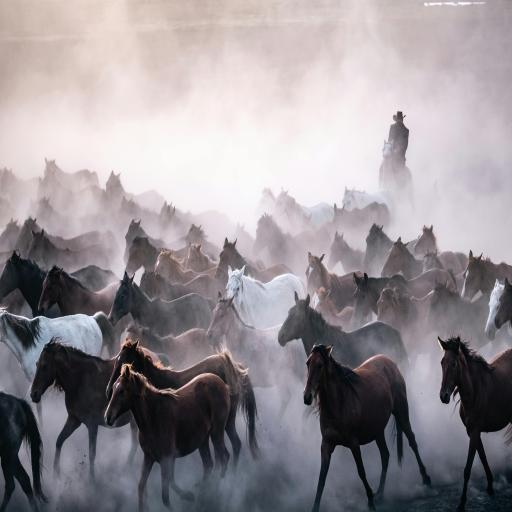horse: (106, 334, 259, 491), (299, 341, 436, 512), (304, 344, 430, 511), (104, 361, 244, 506), (107, 340, 258, 467), (106, 365, 230, 511), (31, 334, 134, 490), (438, 326, 512, 512), (439, 337, 511, 511), (31, 341, 114, 479), (207, 297, 292, 419), (279, 296, 408, 370), (0, 312, 114, 382), (109, 273, 211, 335), (351, 269, 456, 328), (0, 392, 46, 511), (227, 267, 303, 328), (126, 322, 214, 368), (253, 215, 321, 274), (39, 266, 118, 316), (378, 288, 428, 366), (428, 282, 490, 344), (27, 230, 112, 271), (216, 238, 291, 283), (0, 252, 47, 316), (306, 253, 356, 311), (272, 188, 333, 233), (379, 140, 414, 212), (140, 271, 222, 301), (462, 251, 511, 300), (155, 250, 216, 283), (46, 231, 119, 257), (124, 219, 165, 263), (44, 159, 99, 191), (381, 238, 423, 279), (313, 287, 353, 330), (333, 202, 390, 232), (330, 198, 369, 240), (343, 187, 393, 219), (363, 224, 393, 275), (328, 232, 364, 273), (125, 237, 160, 274), (185, 224, 220, 260), (485, 279, 504, 340), (185, 243, 217, 272), (159, 202, 186, 236), (494, 278, 511, 328), (413, 226, 437, 256), (232, 223, 254, 253), (0, 218, 20, 251), (255, 188, 275, 217), (423, 250, 444, 272)
